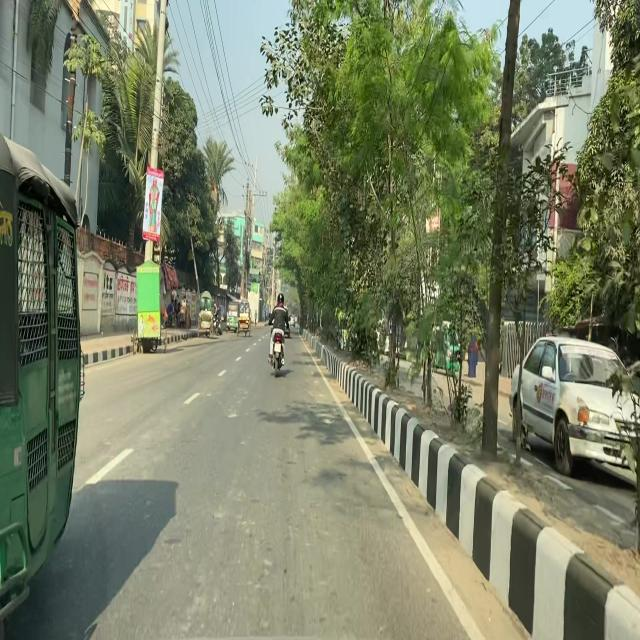car: (508, 333, 640, 480)
motorbike: (267, 310, 293, 380), (204, 300, 223, 339)
